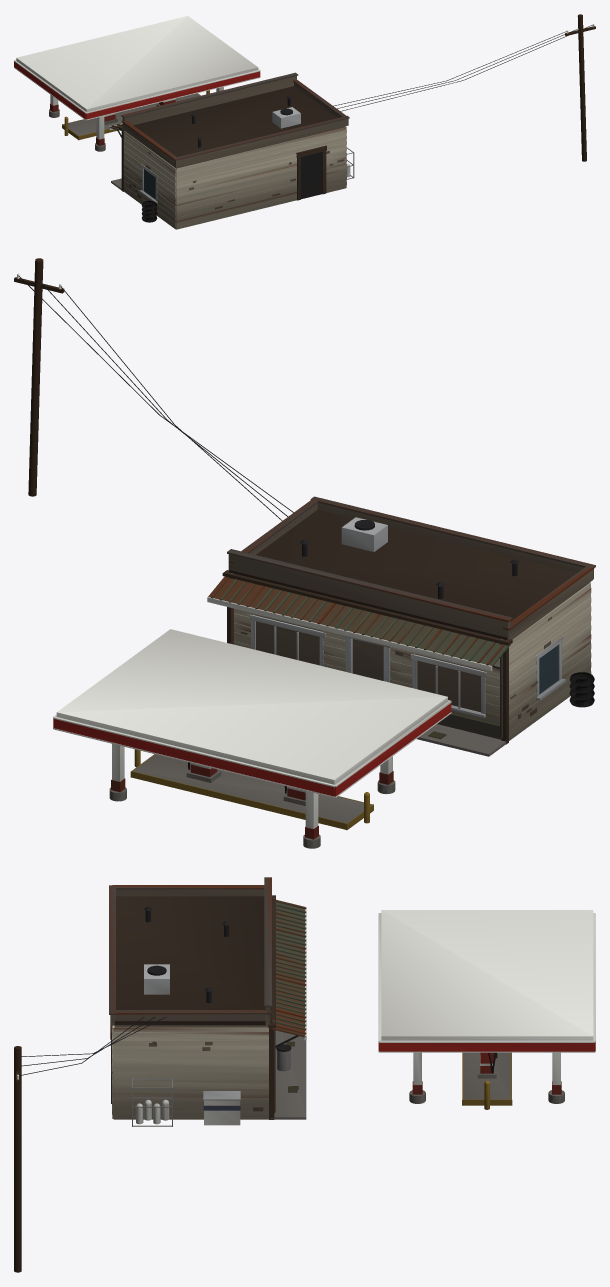
File: GasStationExterior.glb
3 renders of one model, top to bottom at view 1: azimuth 30°, elevation 25°; view 2: azimuth 150°, elevation 25°; view 3: azimuth 270°, elevation 25°, orthographic. The views are drawn at different scales.
Visible parts, largest first — view 1: GasStationExterior_paint_white, GasStationExterior_clapboard, GasStationExterior_roof_deck, GasStationExterior_siding, GasStationExterior_iron, GasStationExterior_metal_dark, GasStationExterior_paint_red, GasStationExterior_concrete, GasStationExterior_wood_dark, GasStationExterior_trim, GasStationExterior_aluminium, GasStationExterior_paint_yellow (+2 smaller); view 2: GasStationExterior_paint_white, GasStationExterior_roof_deck, GasStationExterior_siding, GasStationExterior_clapboard, GasStationExterior_metal_roof, GasStationExterior_concrete, GasStationExterior_iron, GasStationExterior_paint_red, GasStationExterior_aluminium, GasStationExterior_trim, GasStationExterior_wood_dark, GasStationExterior_paint_yellow (+3 smaller); view 3: GasStationExterior_paint_white, GasStationExterior_roof_deck, GasStationExterior_clapboard, GasStationExterior_concrete, GasStationExterior_metal_roof, GasStationExterior_iron, GasStationExterior_siding, GasStationExterior_paint_red, GasStationExterior_wood_dark, GasStationExterior_trim, GasStationExterior_metal_dark, GasStationExterior_aluminium (+2 smaller).
Boxes of the visible parts, x1,y1,x2,y2 form: GasStationExterior_paint_white: (14,16,350,177); GasStationExterior_clapboard: (124,126,346,229); GasStationExterior_roof_deck: (134,86,336,157); GasStationExterior_siding: (122,76,348,209); GasStationExterior_iron: (121,72,349,160); GasStationExterior_metal_dark: (117,25,592,199); GasStationExterior_paint_red: (14,61,260,145); GasStationExterior_concrete: (49,93,200,190); GasStationExterior_wood_dark: (565,14,595,161); GasStationExterior_trim: (119,126,326,200); GasStationExterior_aluminium: (139,107,300,203); GasStationExterior_paint_yellow: (62,90,209,140); GasStationExterior_paint_white: (53,597,492,828); GasStationExterior_roof_deck: (229,509,576,639); GasStationExterior_siding: (228,503,593,719); GasStationExterior_clapboard: (234,582,591,740); GasStationExterior_metal_roof: (208,576,510,667); GasStationExterior_concrete: (109,724,506,848); GasStationExterior_iron: (227,496,595,738); GasStationExterior_paint_red: (53,703,451,839); GasStationExterior_aluminium: (249,517,565,717); GasStationExterior_trim: (222,570,512,744); GasStationExterior_wood_dark: (14,258,64,496); GasStationExterior_paint_yellow: (130,749,373,830); GasStationExterior_paint_white: (136,907,595,1125); GasStationExterior_roof_deck: (114,896,271,1025); GasStationExterior_clapboard: (112,1025,268,1119); GasStationExterior_concrete: (270,1030,564,1119); GasStationExterior_metal_roof: (270,899,306,1037); GasStationExterior_iron: (109,877,275,1113); GasStationExterior_siding: (110,889,270,1111); GasStationExterior_paint_red: (378,1042,595,1094); GasStationExterior_wood_dark: (14,1046,21,1272); GasStationExterior_trim: (110,895,275,1119); GasStationExterior_metal_dark: (19,906,497,1075); GasStationExterior_aluminium: (144,964,240,1100).
Size of the model in its own units: 81.15 by 28.07 by 66.97.
